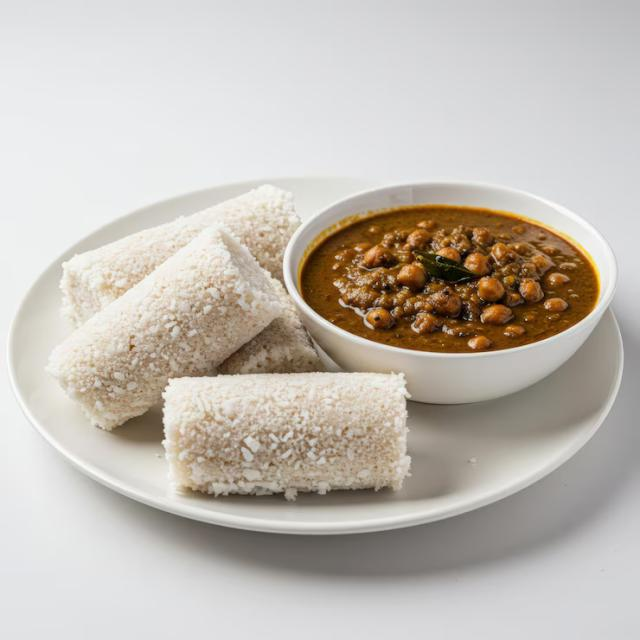CURRY: (302, 206, 602, 352)
PUTTU: (42, 183, 413, 491)
